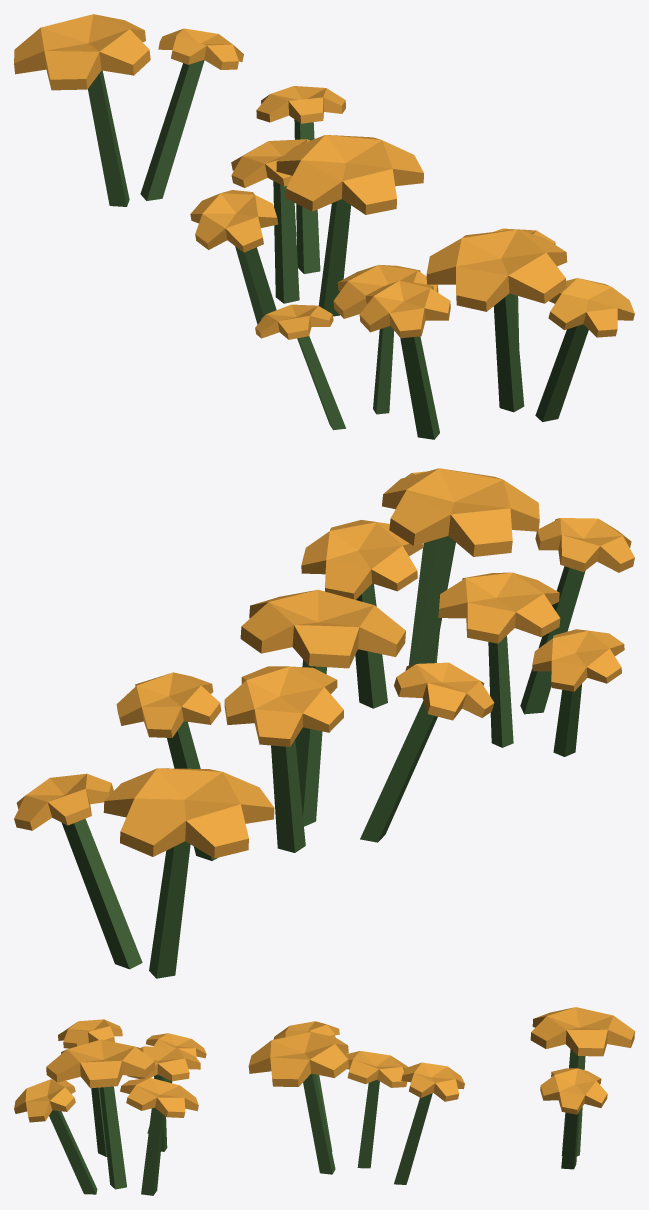
The model's file is dividers-flowers.glb.
3 views of the same model, one above another, from view 1: azimuth 30°, elevation 25°; view 2: azimuth 150°, elevation 25°; view 3: azimuth 270°, elevation 25° (orthographic). The views are drawn at different scales.
Parts seen in each view (by area): view 1: flowers; view 2: flowers; view 3: flowers.
Part boxes in pixels (box(x1,y1,x2,y2)): flowers: box(14, 14, 634, 439); flowers: box(14, 468, 634, 978); flowers: box(14, 1007, 634, 1195).
Bounding box in the file's own units: 0.5849 × 0.3464 × 1.52.
1 material, 1 textured.
